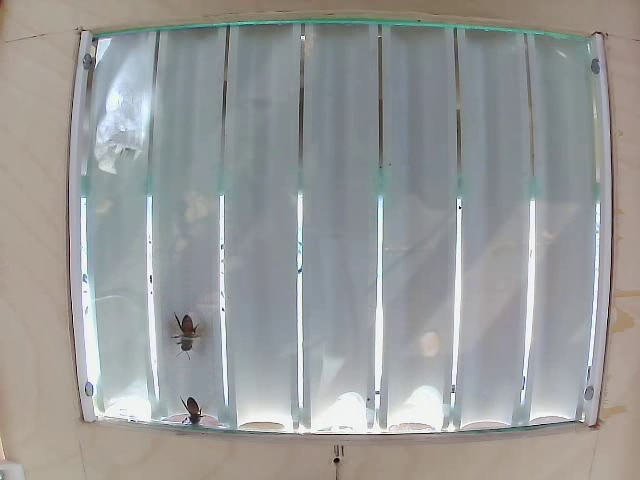bee: (164, 309, 200, 356), (174, 393, 212, 427)
